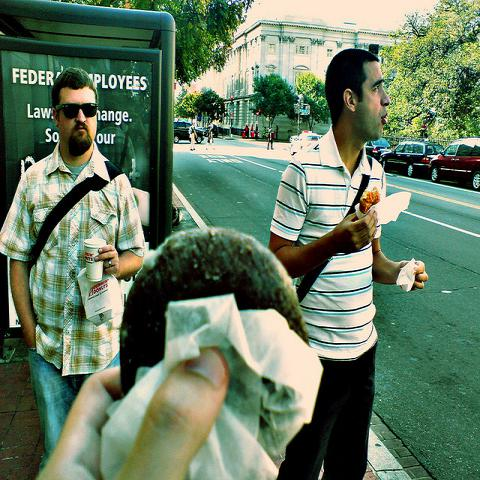car: (429, 136, 480, 191), (378, 140, 444, 179), (291, 132, 321, 157), (174, 121, 204, 144), (368, 138, 390, 160)
